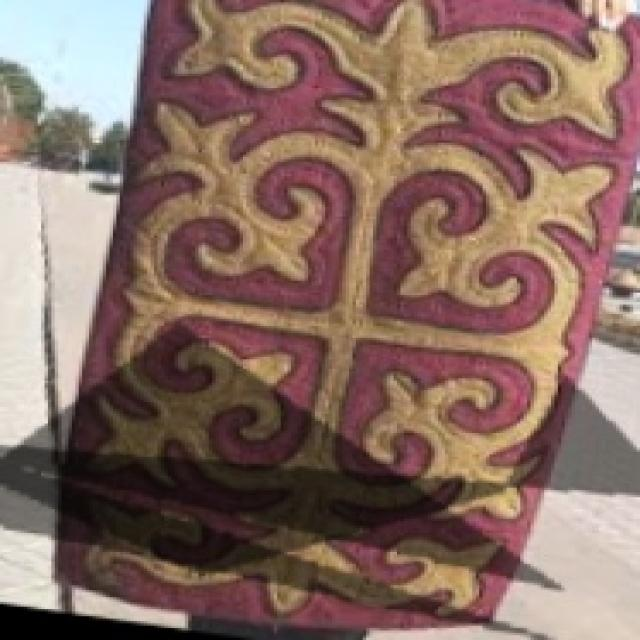Unity: (68, 90, 637, 536)
